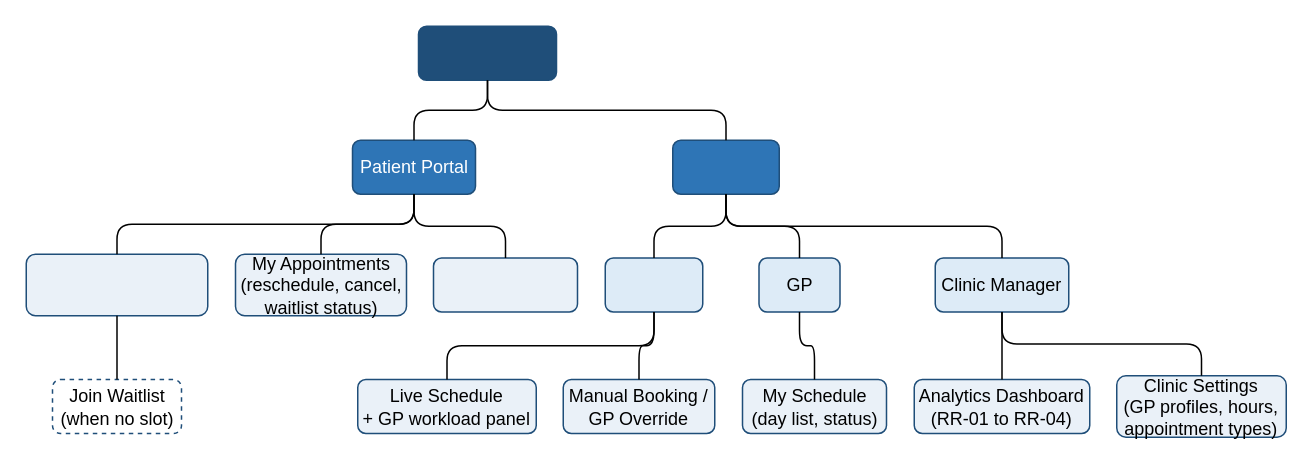
This 1313x465 diagram has some shape labels left out. The centre of each missing label's shape, as x and y in pixels:
"Book Appointment (reason, date, time → GP recommendation)" belongs at (116,284).
"Login / Register (role selection)" belongs at (486,52).
"My Profile (contact details)" belongs at (505,284).
"Reception" belongs at (653,284).
"Staff Portal" belongs at (725,166).
